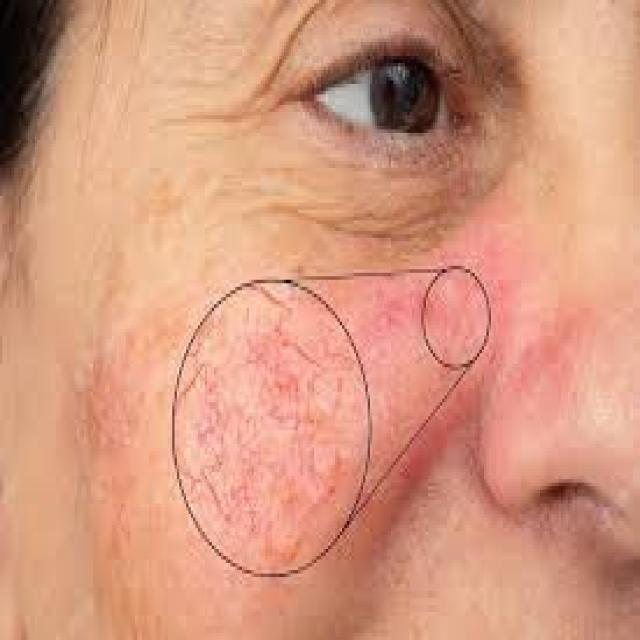Rosacea: (184, 289, 364, 560), (376, 198, 584, 417)
